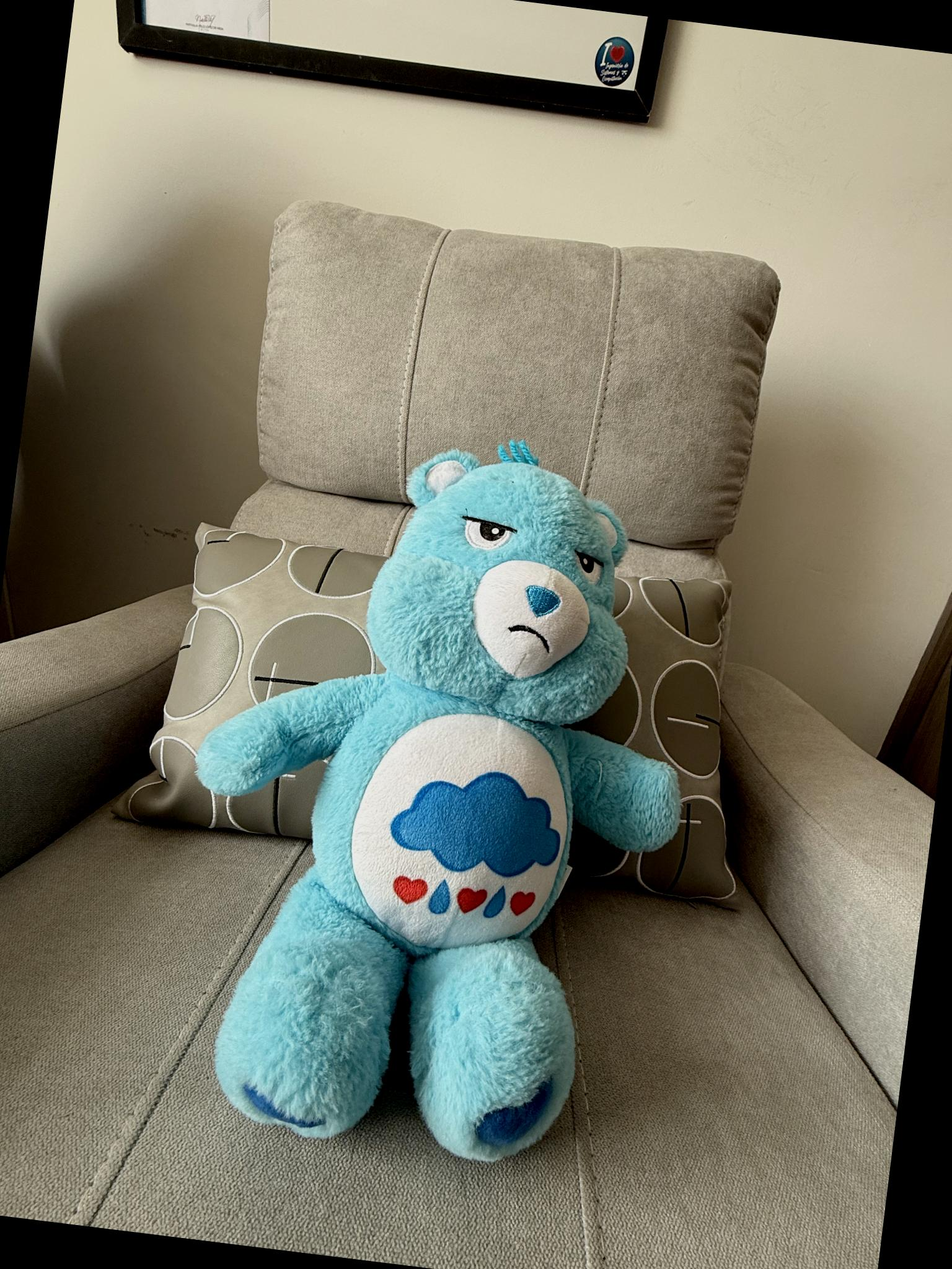peluche_Juan Jose: (227, 427, 698, 1191)
